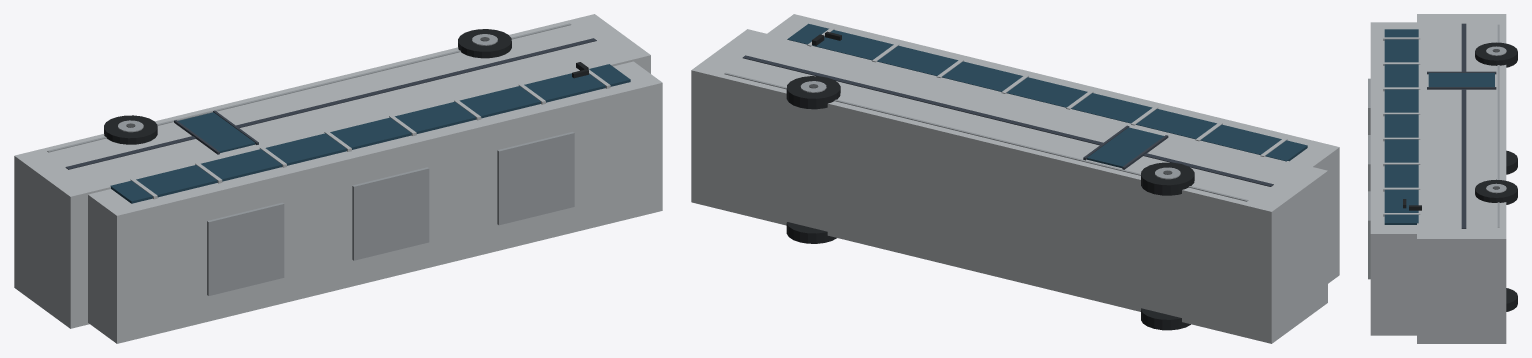
The model's file is RM_Bus_38.glb.
The picture shows the model from 3 angles, left to right: view 1: azimuth 30°, elevation 25°; view 2: azimuth 150°, elevation 25°; view 3: azimuth 270°, elevation 25°; orthographic projection. The views are drawn at different scales.
Parts seen in each view (by area): view 1: part_001, part_000, part_002, part_037, part_038, part_039, part_013, part_040, part_014, part_030, part_024; view 2: part_000, part_002, part_001, part_013, part_040, part_030, part_024, part_014, part_027, part_021; view 3: part_000, part_001, part_002, part_013, part_040, part_024, part_030, part_014, part_039, part_021, part_027, part_042 (+5 smaller).
Part boxes in pixels (<box>): part_001: <box>88,61,662,343</box>; part_000: <box>14,14,650,328</box>; part_002: <box>110,64,630,203</box>; part_037: <box>207,202,284,295</box>; part_038: <box>352,167,429,260</box>; part_039: <box>497,132,574,225</box>; part_013: <box>65,38,596,169</box>; part_040: <box>178,112,255,152</box>; part_014: <box>47,23,571,152</box>; part_030: <box>458,29,511,58</box>; part_024: <box>104,115,157,144</box>; part_000: <box>691,29,1327,343</box>; part_002: <box>787,23,1307,161</box>; part_001: <box>767,14,1339,283</box>; part_013: <box>742,55,1273,186</box>; part_040: <box>1087,127,1163,167</box>; part_030: <box>786,76,840,109</box>; part_024: <box>1141,162,1194,195</box>; part_014: <box>724,72,1248,201</box>; part_027: <box>786,222,836,243</box>; part_021: <box>1141,308,1190,330</box>; part_000: <box>1417,14,1506,343</box>; part_001: <box>1370,22,1416,335</box>; part_002: <box>1384,29,1418,224</box>; part_013: <box>1461,23,1466,228</box>; part_040: <box>1428,73,1494,86</box>; part_024: <box>1475,42,1517,67</box>; part_030: <box>1475,179,1517,204</box>; part_014: <box>1497,24,1499,227</box>; part_039: <box>1368,191,1370,279</box>; part_021: <box>1506,150,1517,174</box>; part_027: <box>1506,288,1517,311</box>; part_042: <box>1427,87,1496,89</box>.
Bounding box in the file's own units: 11.64 × 2.85 × 3.28.
